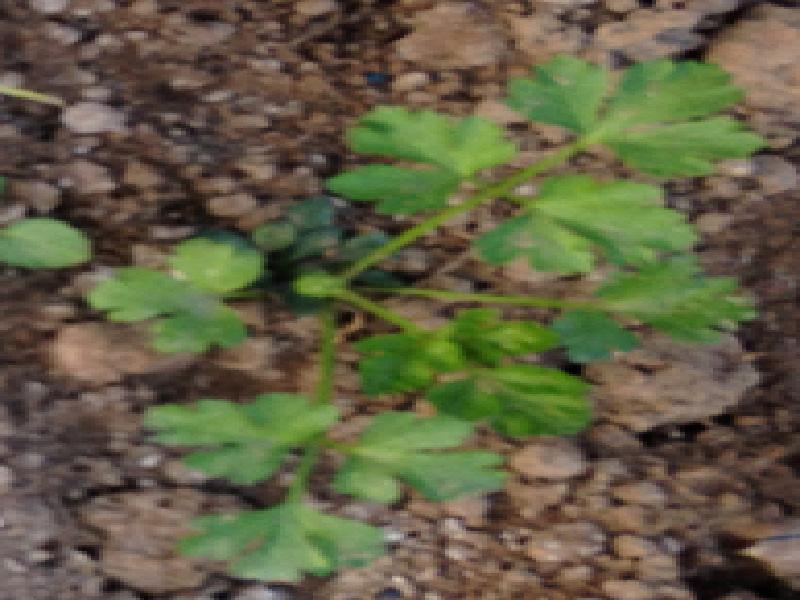radish: (0, 93, 683, 559)
